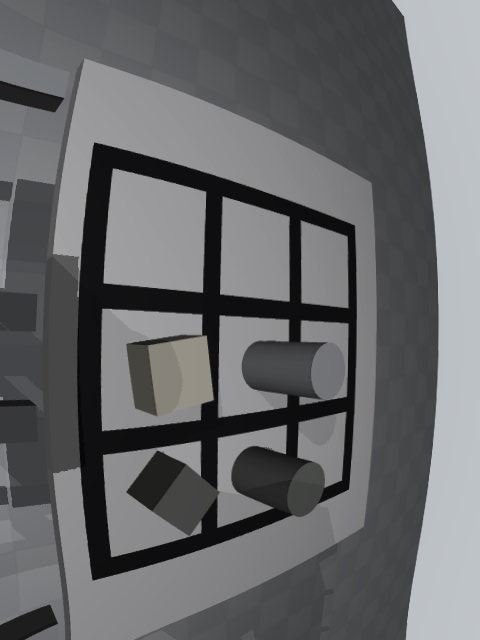can: (242, 341, 345, 400)
cube: (127, 450, 219, 536)
cylinder: (231, 446, 325, 517)
foam: (126, 335, 214, 416)
